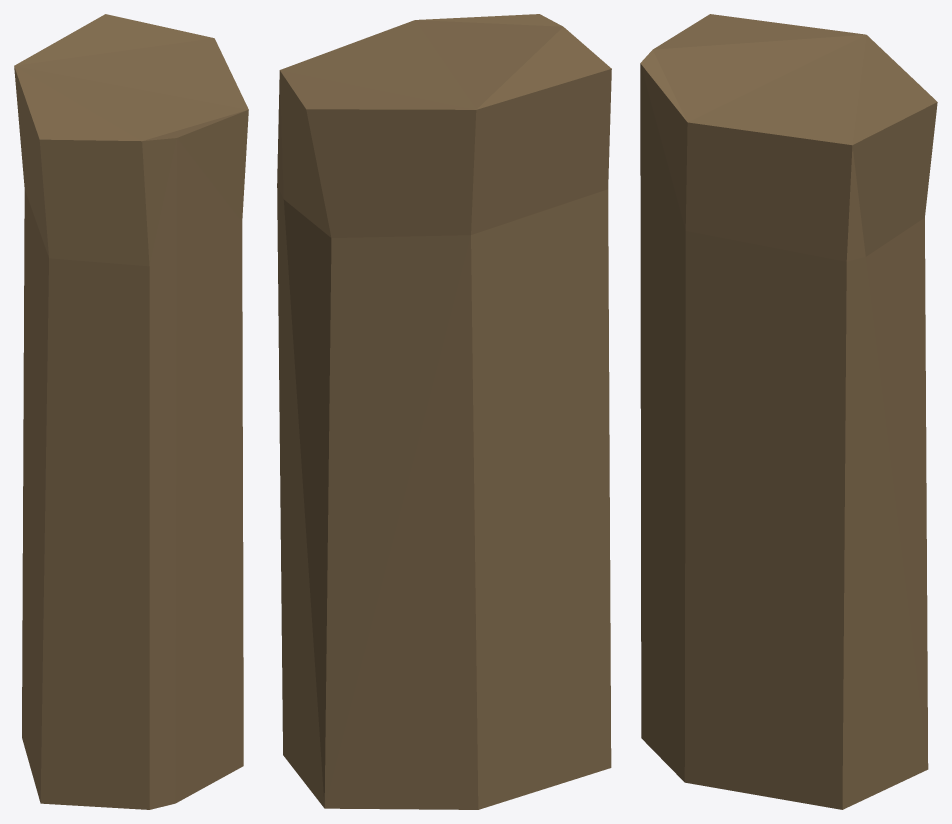
File: Rock.001.fbx
3 renders of one model, left to right at view 1: azimuth 30°, elevation 25°; view 2: azimuth 150°, elevation 25°; view 3: azimuth 270°, elevation 25°, orthographic. The views are drawn at different scales.
Visible parts, largest first — view 1: Rock.001; view 2: Rock.001; view 3: Rock.001.
Part boxes in pixels (x1,y1,x2,y2): Rock.001: [14, 14, 248, 809]; Rock.001: [277, 14, 611, 809]; Rock.001: [640, 14, 937, 809].
Size of the model in its own units: 178 by 453 by 180.
